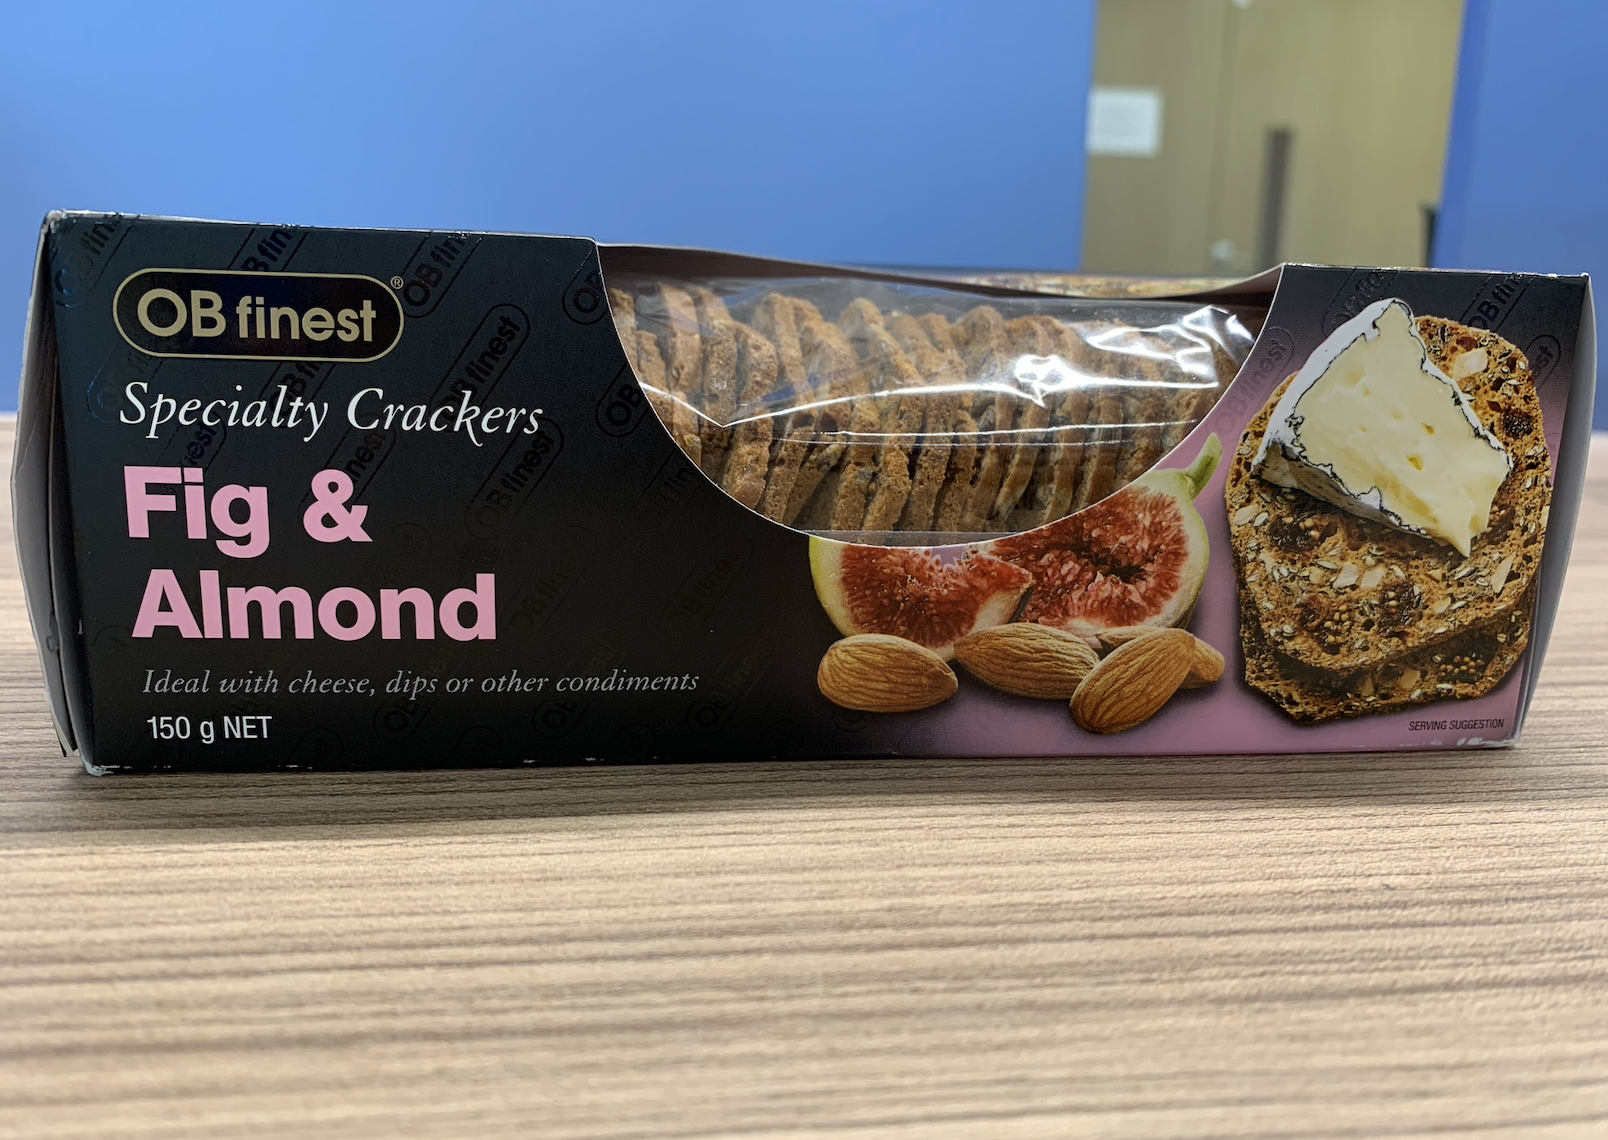crackers_100g-199g: (97, 275, 1507, 753)
